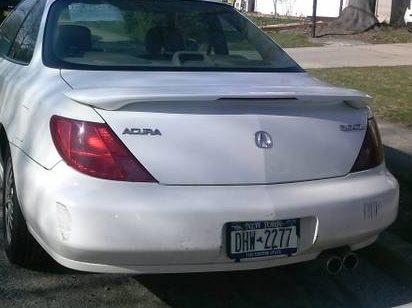acura: (1, 1, 405, 289)
